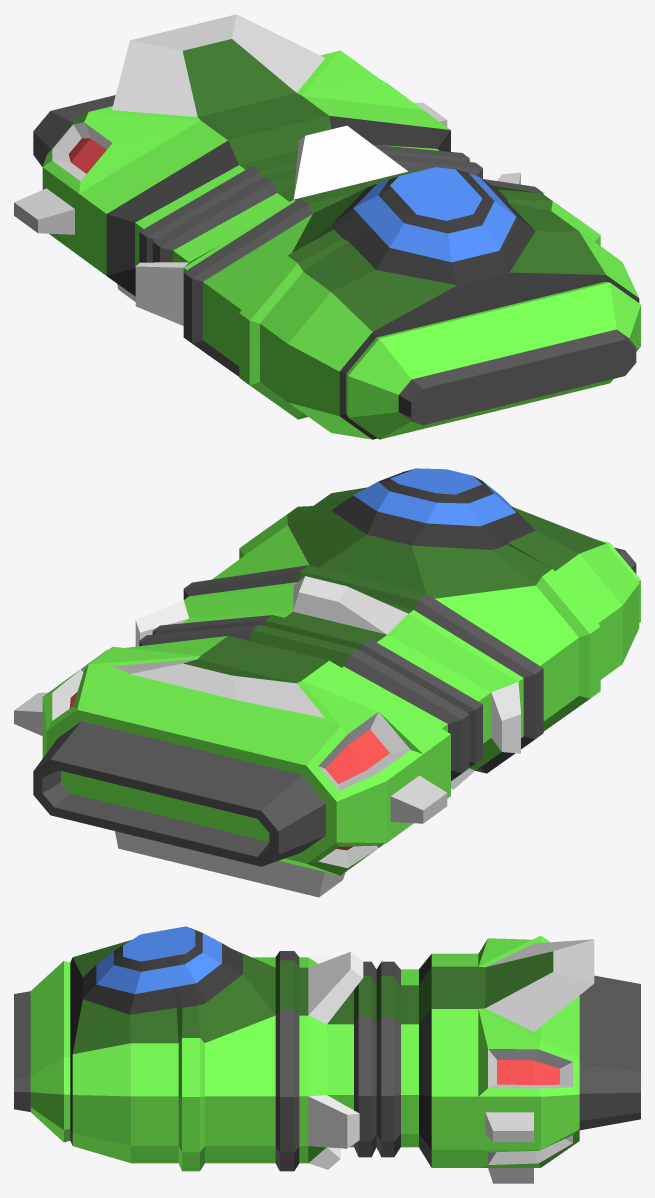
File: Ship_2x3_C2.fbx
The picture shows the model from 3 angles, top to bottom: view 1: azimuth 30°, elevation 25°; view 2: azimuth 150°, elevation 25°; view 3: azimuth 270°, elevation 25°; orthographic projection. The views are drawn at different scales.
Visible parts, largest first — view 1: Ship_2x3_C2; view 2: Ship_2x3_C2; view 3: Ship_2x3_C2.
Part boxes in pixels (<box>): Ship_2x3_C2: <box>14,14,640,439</box>; Ship_2x3_C2: <box>14,468,640,897</box>; Ship_2x3_C2: <box>14,926,640,1183</box>.
Size of the model in its own units: 178 by 99.29 by 277.
